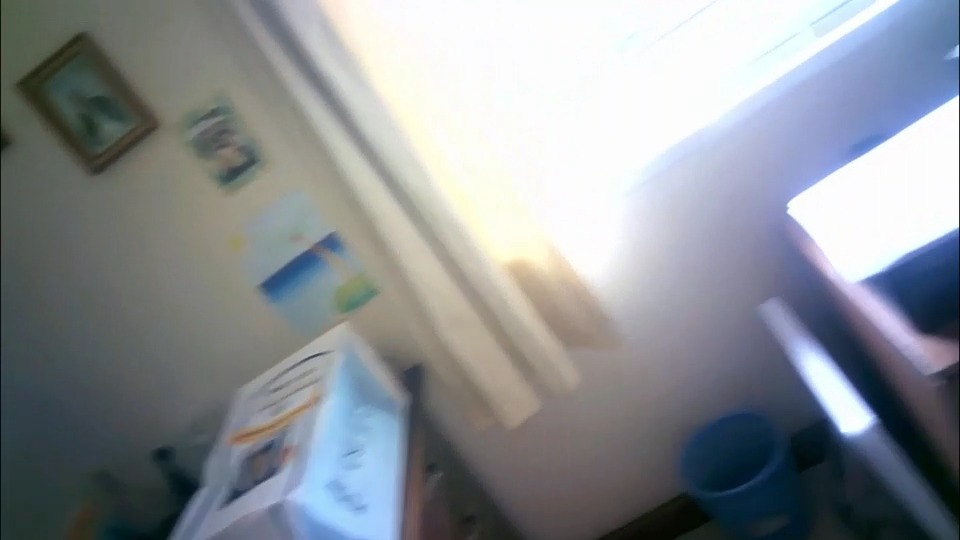wheat_flour_blue_label: (168, 327, 405, 533)
